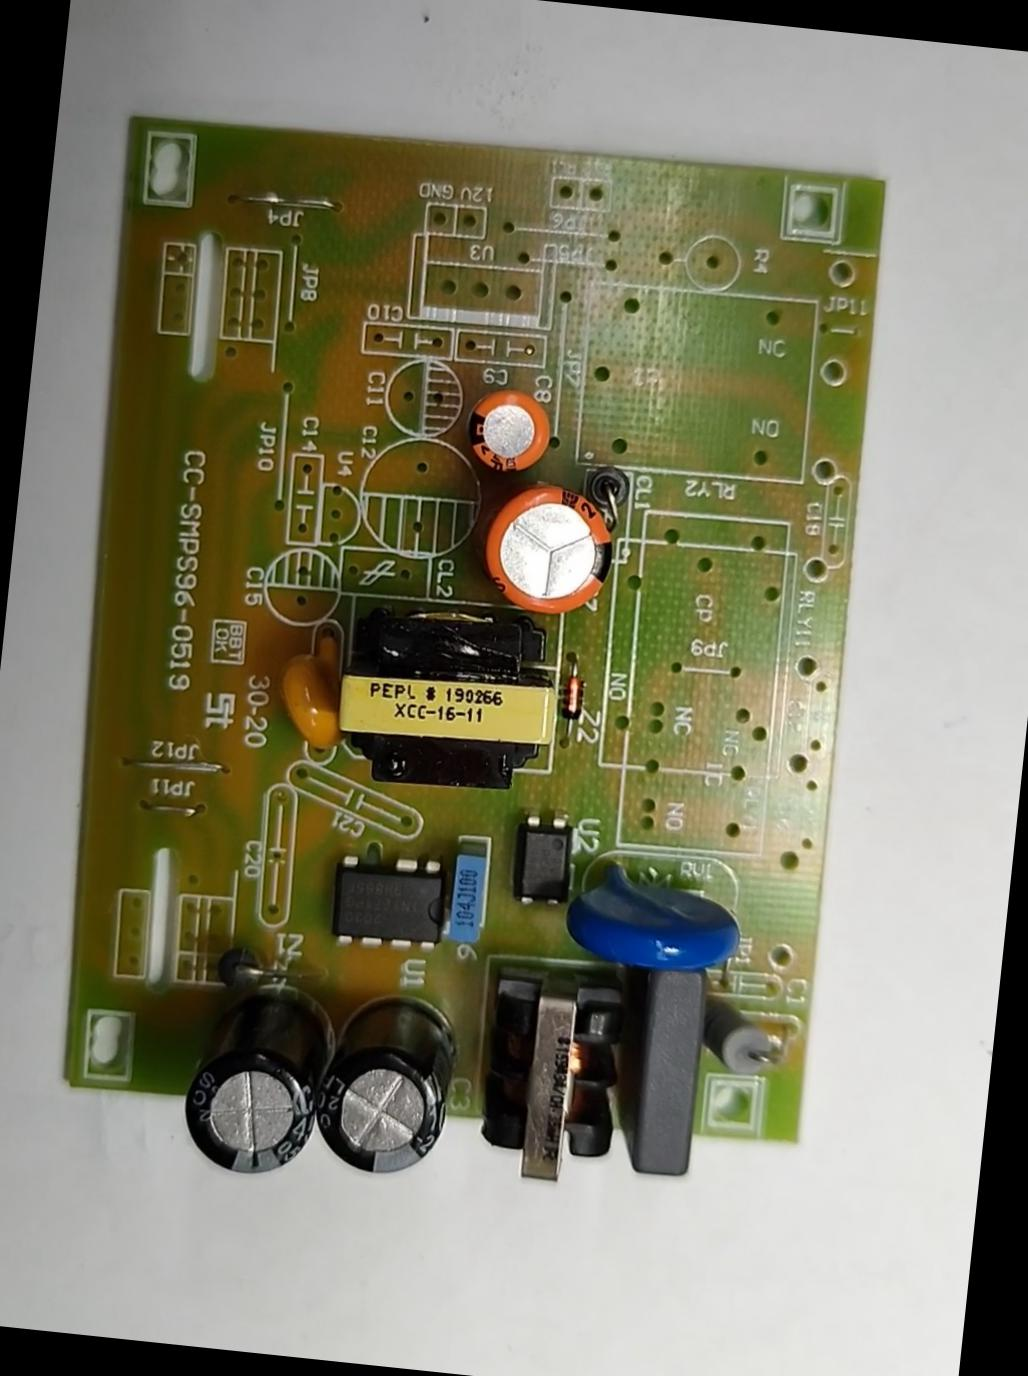Cap1: (473, 473, 622, 621)
Cap2: (463, 379, 555, 474)
Cap3: (315, 986, 460, 1185)
Cap4: (178, 974, 329, 1182)
MOSFET: (323, 845, 446, 953)
Mov: (562, 846, 750, 979)
Resistor: (700, 987, 785, 1076)
Transformer: (333, 593, 564, 796), (472, 961, 633, 1189)
